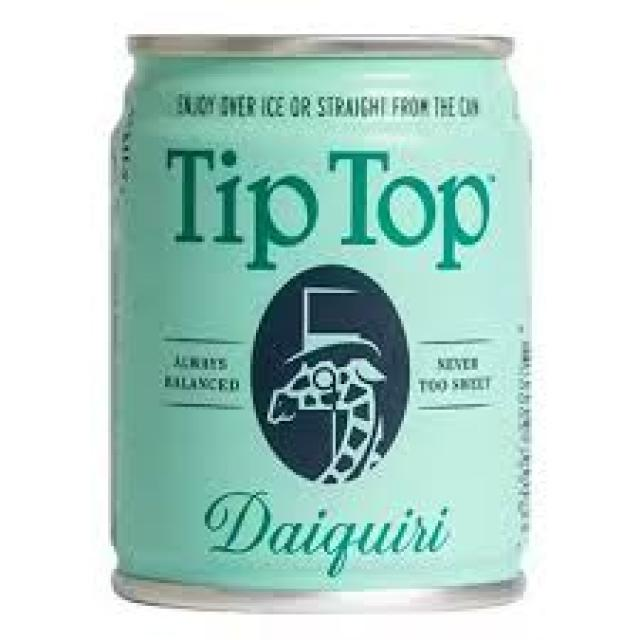Cans: (94, 23, 555, 617)
